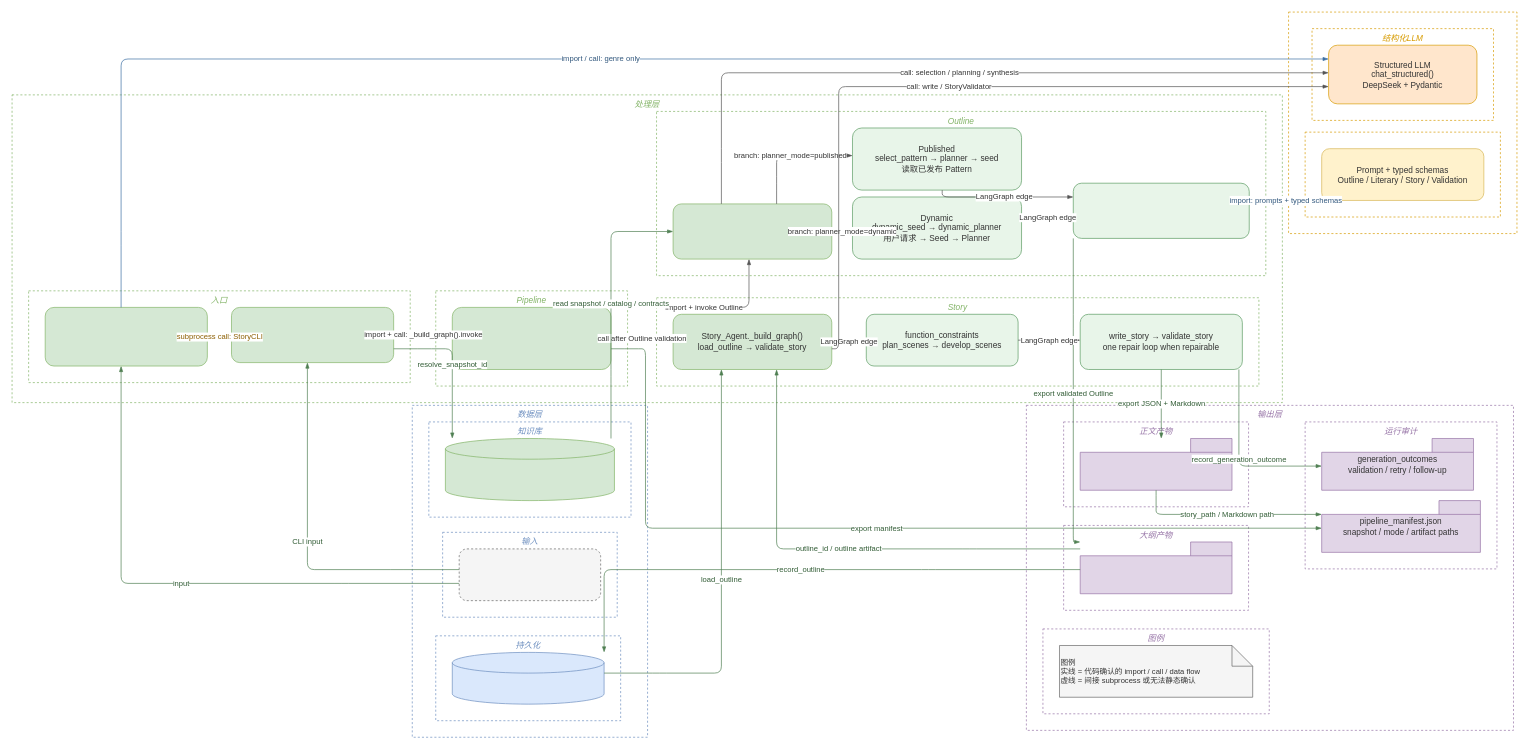
Image size: 1529x749. Some labels were removed from this diagram. The box of each missing label's shape, as (x1, y1, x2, y2) in pixels:
mechanism → scaffold → realize → validate Function chain + Contract ledger: (1073, 183, 1249, 238)
Outline JSON + outline_id validated outline artifact: (1080, 541, 1232, 594)
Outline_Agent._build_graph() Published / Dynamic branches: (672, 203, 832, 259)
outlines table StoryKnowledgeStore.record_outline(): (452, 652, 604, 704)
Pipeline_Agent START → generate_outline → generate_story → export: (452, 307, 611, 369)
Serving Snapshot Functions + Contracts + Occurrences Published Pattern catalog: (445, 438, 614, 501)
Story JSON + Markdown validated / repaired正文: (1080, 438, 1232, 490)
StoryCLI.generate_story() _infer_genre + resolve_snapshot: (231, 307, 394, 363)
StoryUI route_request + normalize_story_request shell-free StoryCLI command: (45, 307, 207, 366)
提示与Schema: (1304, 131, 1500, 217)
模型层: (1288, 11, 1517, 234)
用户创作要求 --request / --request-file: (459, 548, 601, 601)
